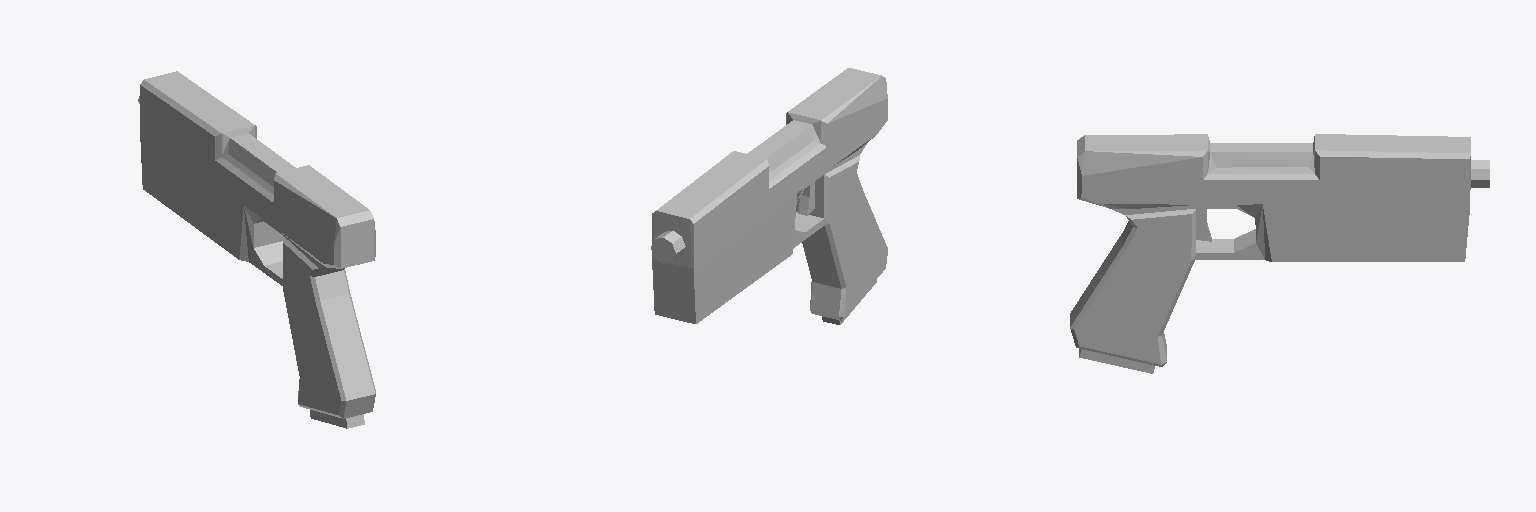
Rendered from pistol3.obj.
The picture shows the model from 3 angles: view 1: azimuth 30°, elevation 25°; view 2: azimuth 150°, elevation 25°; view 3: azimuth 270°, elevation 25°; orthographic projection.
Parts seen in each view (by area): view 1: main_gun; view 2: main_gun; view 3: main_gun.
Part boxes in pixels (x1,y1,x2,y2): main_gun: (138,71,375,428); main_gun: (651,68,887,324); main_gun: (1070,134,1489,373).
Size of the model in its own units: 1.07 by 5.6 by 9.35.